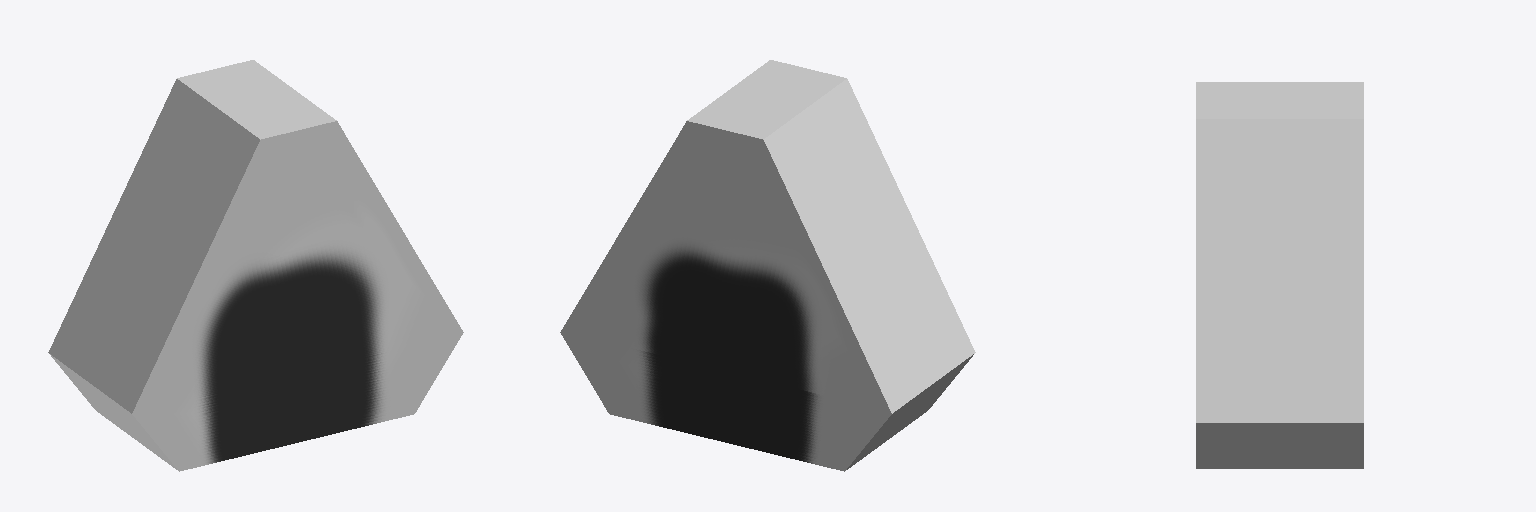
3 renders of one model, left to right at view 1: azimuth 30°, elevation 25°; view 2: azimuth 150°, elevation 25°; view 3: azimuth 270°, elevation 25°, orthographic.
Visible parts, largest first — view 1: Cube; view 2: Cube; view 3: Cube.
Boxes of the visible parts, x1,y1,x2,y2 form: Cube: [48, 60, 463, 471]; Cube: [560, 60, 975, 471]; Cube: [1196, 82, 1363, 468].
Bounding box in the file's own units: 1.83 × 1.65 × 0.8.
1 materials, 1 textured.